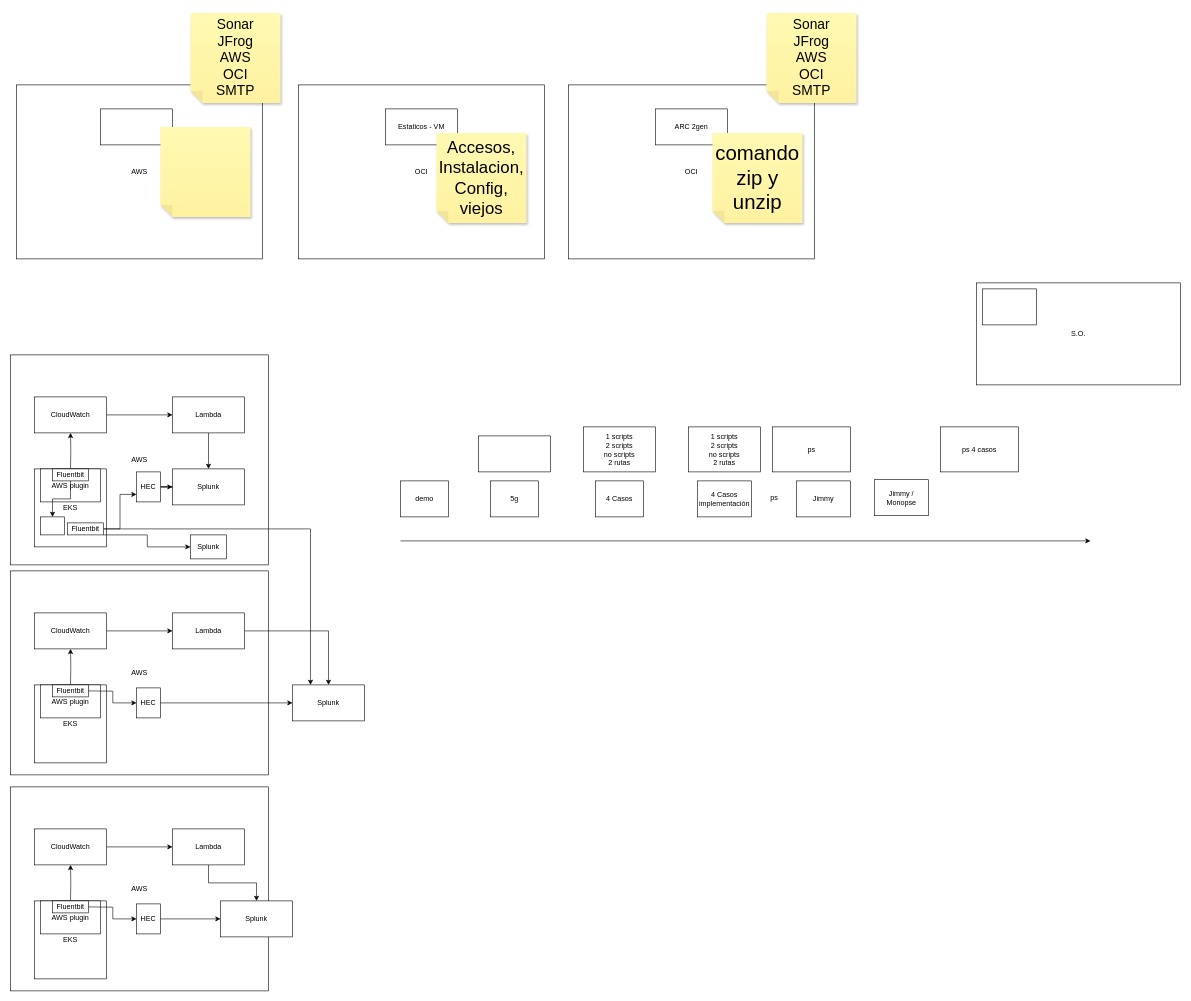
Image size: 1191x1001. Some labels were removed from this diagram. The shapes that lost their labels are listed below. From the top down, each one's centre as x and y in pixels, then its label:
the point at 136,126: ARC 1gen
the point at 206,172: Actualizar a gen 2, con la imagen mas reciente de OCI (runners)
the point at 1009,306: Monopse
the point at 514,453: scripts
the point at 52,525: pod
